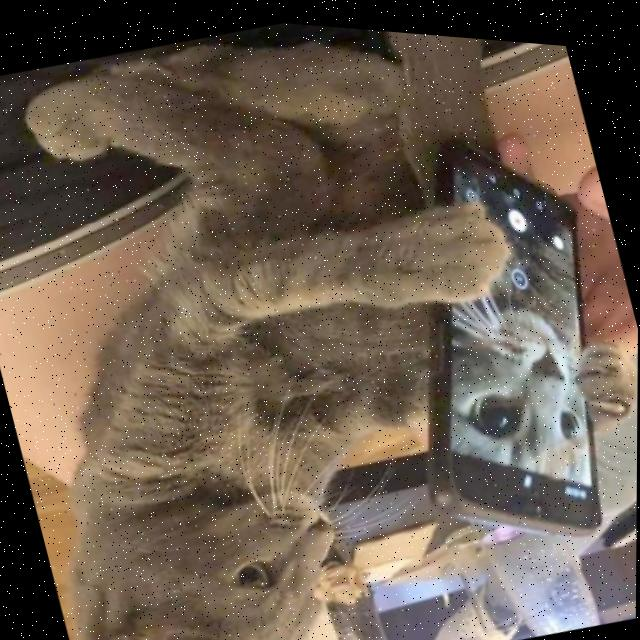Cats: (0, 153, 553, 640), (412, 235, 625, 475)
